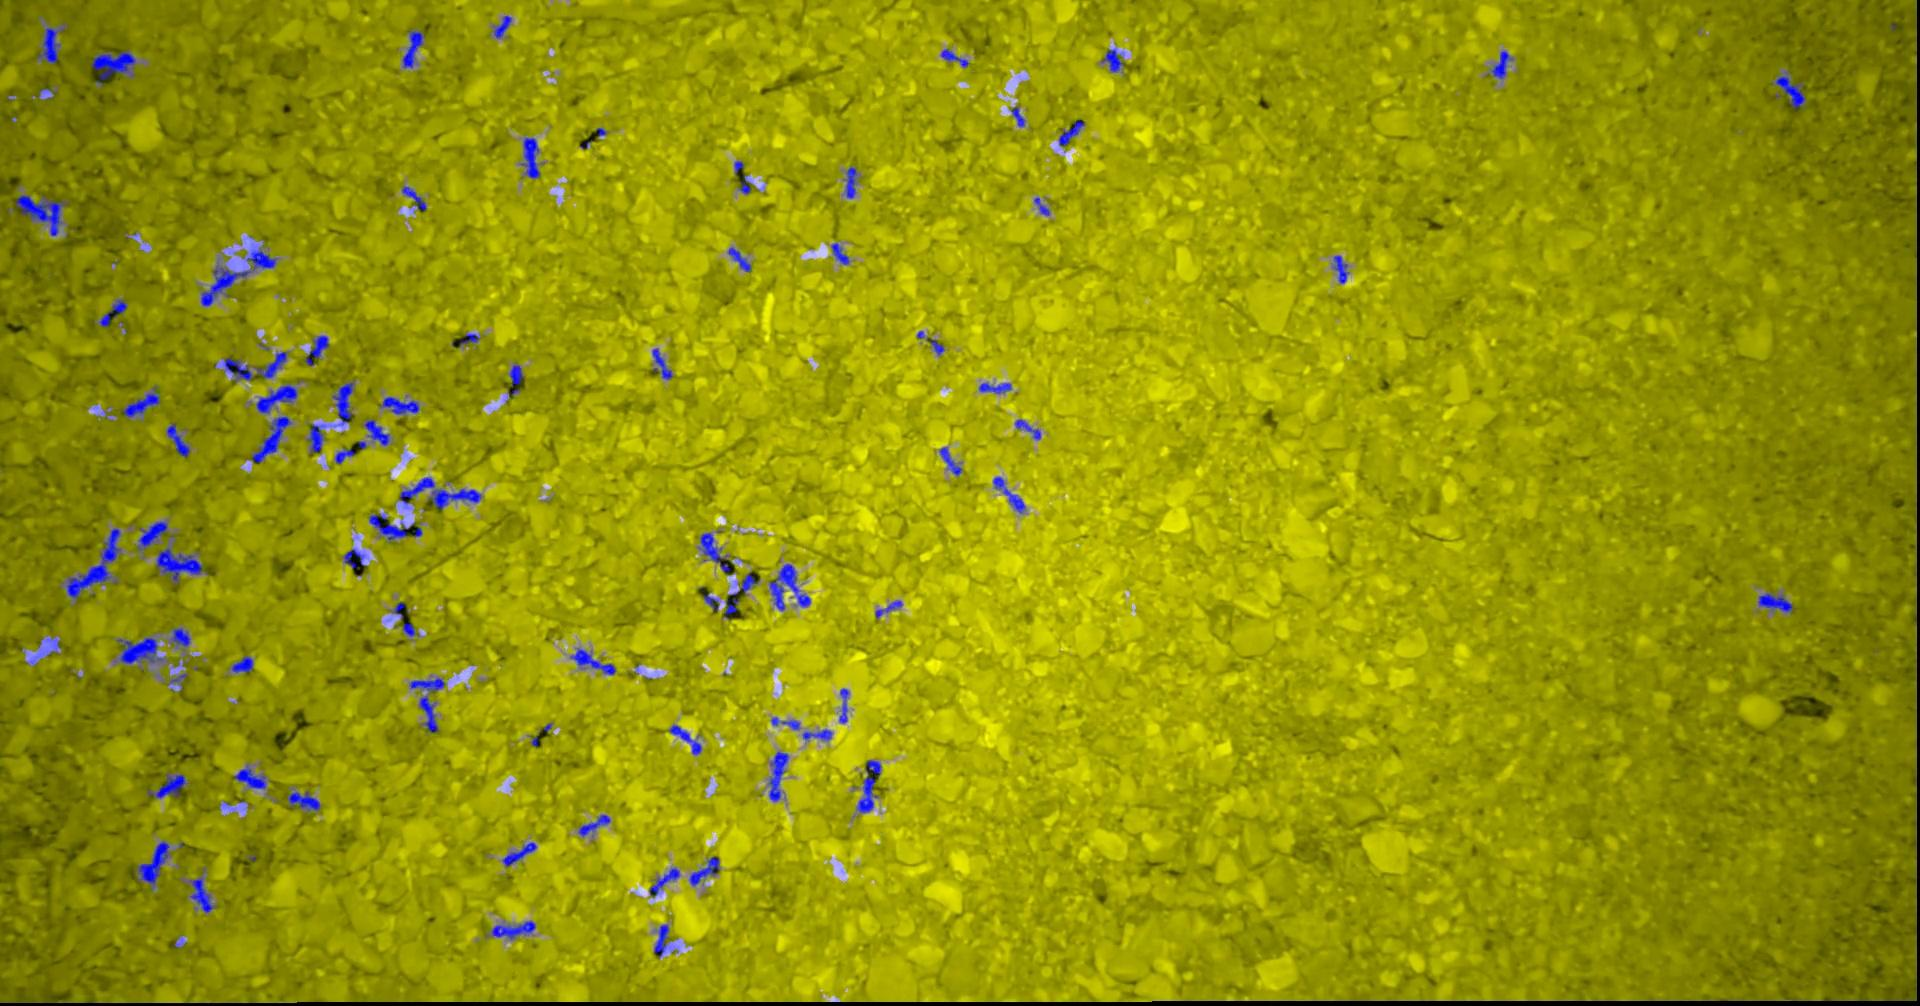ant: (201, 248, 276, 306), (66, 528, 119, 598), (399, 478, 481, 509), (15, 194, 63, 235), (770, 563, 810, 610), (251, 415, 291, 462), (155, 547, 202, 583), (136, 840, 169, 887), (724, 573, 757, 619), (91, 50, 135, 84), (856, 760, 881, 812), (116, 636, 163, 663), (698, 532, 730, 572), (992, 476, 1025, 513), (257, 384, 297, 413), (570, 648, 615, 674), (121, 386, 159, 417), (368, 513, 414, 539), (768, 751, 789, 801), (37, 25, 63, 64), (668, 724, 701, 754), (1775, 75, 1804, 108), (331, 381, 353, 424), (189, 876, 215, 912), (136, 521, 168, 549), (147, 774, 185, 796), (489, 920, 535, 939), (690, 856, 719, 885), (649, 868, 679, 895), (502, 842, 536, 866), (257, 351, 286, 379), (166, 423, 189, 456), (232, 765, 265, 788), (403, 30, 423, 67), (99, 298, 126, 326), (1757, 592, 1792, 614), (521, 137, 538, 178), (1058, 119, 1084, 146), (223, 356, 251, 381), (303, 335, 328, 365), (380, 396, 419, 414), (578, 814, 610, 836), (419, 695, 437, 732), (651, 347, 672, 379), (287, 790, 319, 810), (938, 447, 961, 475), (364, 419, 389, 445), (1491, 50, 1512, 77), (401, 185, 425, 210), (728, 246, 750, 271), (409, 677, 444, 692), (940, 48, 968, 67), (307, 424, 325, 453), (1015, 419, 1040, 439), (653, 923, 668, 956), (507, 365, 522, 396), (875, 600, 902, 617), (343, 547, 366, 568), (1102, 50, 1123, 71), (1333, 255, 1349, 283), (830, 243, 850, 264), (493, 15, 510, 38), (770, 716, 799, 729), (844, 166, 856, 198), (171, 627, 189, 647), (978, 382, 1011, 392), (334, 447, 354, 464), (231, 655, 251, 672), (839, 688, 848, 723), (801, 729, 830, 739), (1032, 197, 1049, 215), (1010, 105, 1023, 126), (738, 174, 750, 193), (458, 333, 477, 345), (703, 593, 717, 610), (930, 339, 943, 354), (403, 622, 415, 636)
